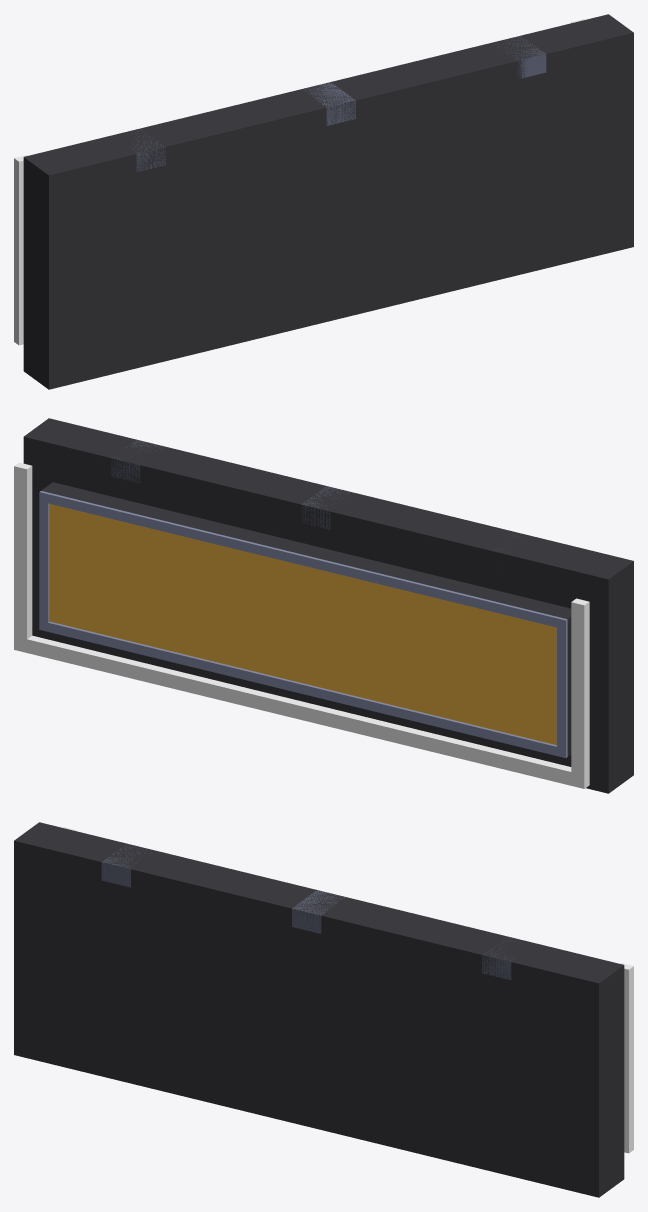
File: enseigne-neon-lettres.glb
The picture shows the model from 3 angles, top to bottom: view 1: azimuth 30°, elevation 25°; view 2: azimuth 150°, elevation 25°; view 3: azimuth 330°, elevation 25°; orthographic projection.
Parts seen in each view (by area): view 1: enseigne-neon-lettres; view 2: enseigne-neon-lettres, enseigne-neon-lettres-lumiere; view 3: enseigne-neon-lettres.
Boxes of the visible parts, x1,y1,x2,y2 form: enseigne-neon-lettres: (14,14,633,389); enseigne-neon-lettres: (14,418,633,793); enseigne-neon-lettres-lumiere: (49,504,556,745); enseigne-neon-lettres: (14,822,633,1197).
Bounding box in the file's own units: 4 × 1.4 × 0.5.
Materials: 2 (2 with a texture image).
